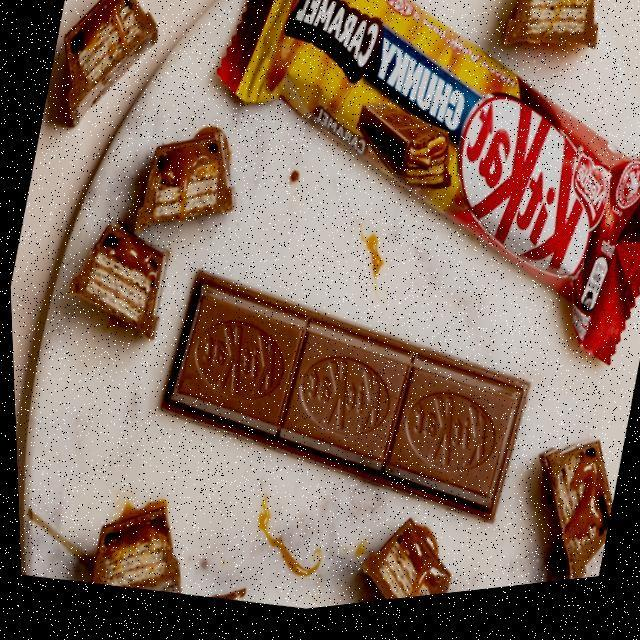kitkat_chocolate: (272, 40, 638, 310)
